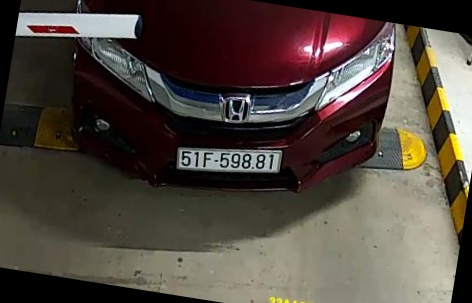plate: (173, 143, 283, 177)
